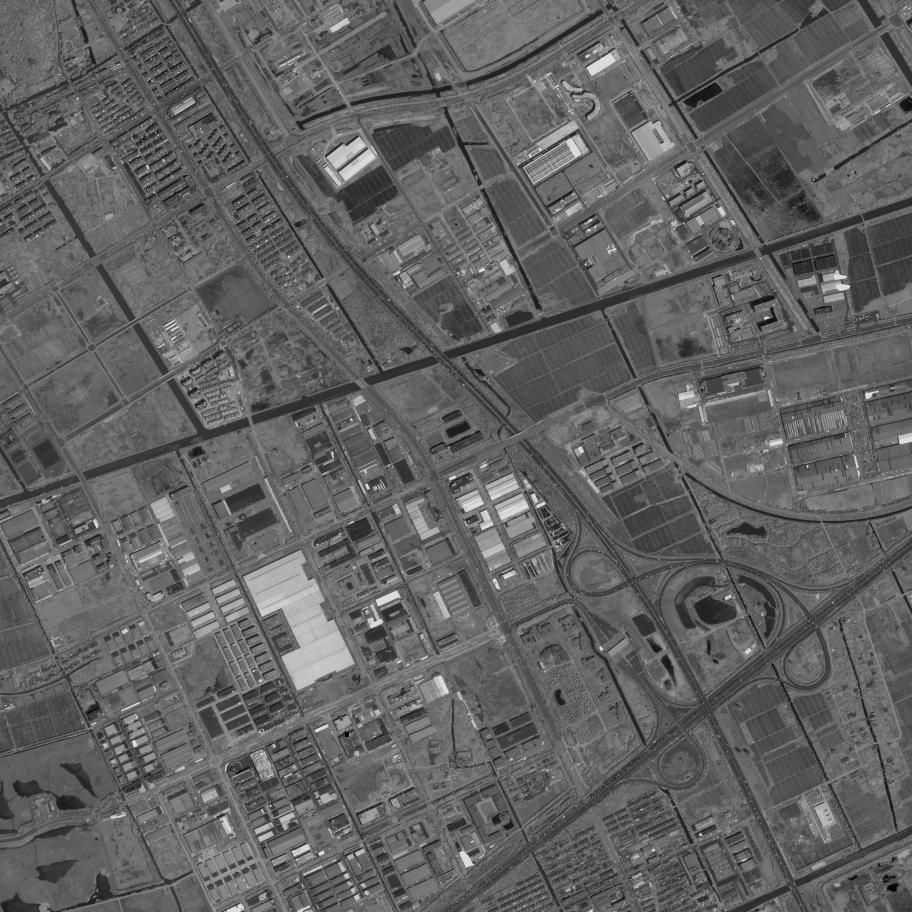storage-tank: (354, 751, 360, 757), (345, 732, 350, 737)
